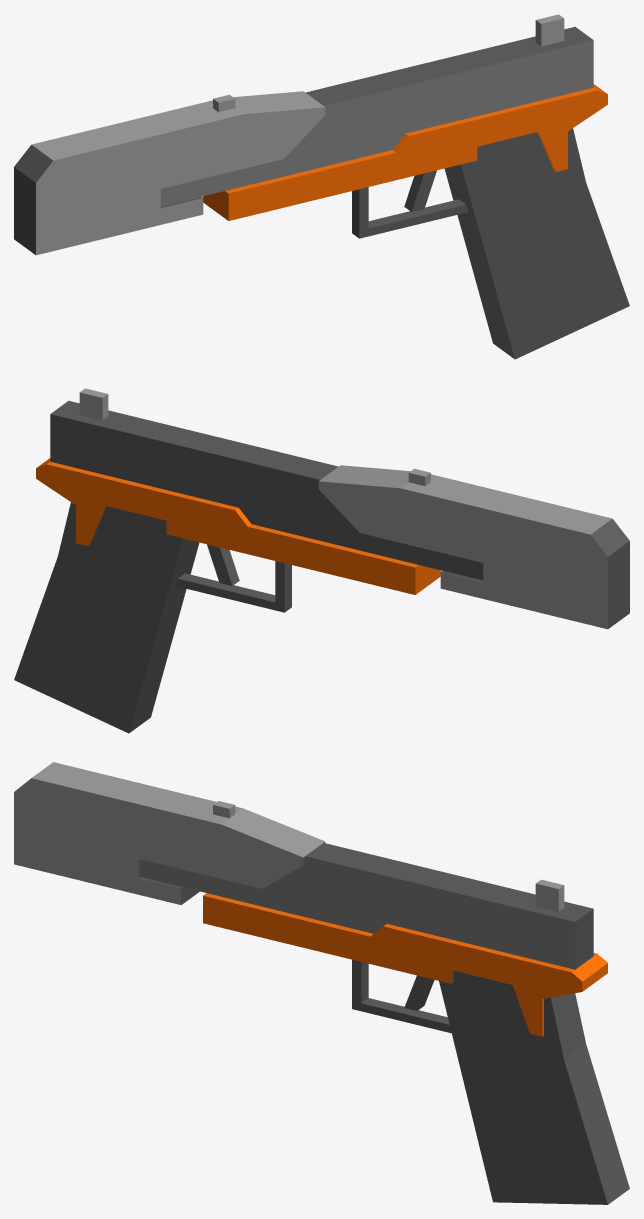
File: goomo.obj
3 views of the same model, one above another, from view 1: azimuth 30°, elevation 25°; view 2: azimuth 150°, elevation 25°; view 3: azimuth 330°, elevation 25° (orthographic).
Visible parts, largest first — view 1: Solid1; view 2: Solid1; view 3: Solid1.
Part boxes in pixels (left/top/right/bottom): Solid1: left=14, top=14, right=629, bottom=359; Solid1: left=14, top=388, right=629, bottom=733; Solid1: left=14, top=762, right=629, bottom=1204.
Size of the model in its own units: 4.68 by 2.42 by 0.35.
